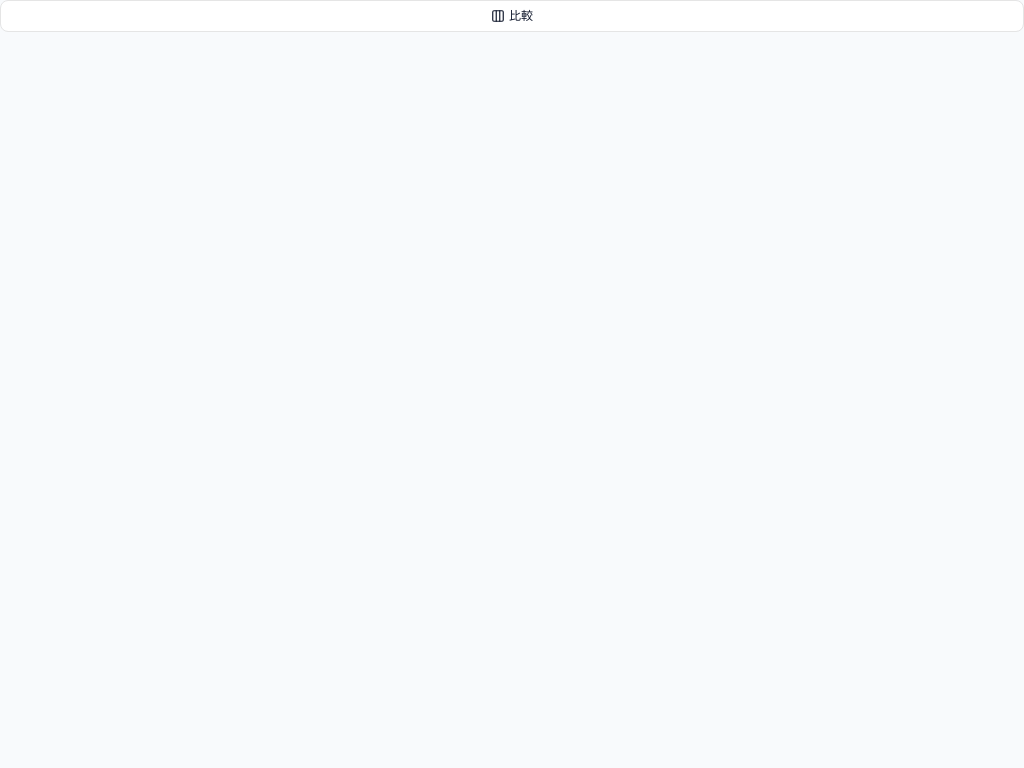
Test: BuildComparisonDialog › 選択が2件未満のときは比較できないと伝える
Step 1. Click the button "比較" → (512, 16), box [0,0,1023,32]
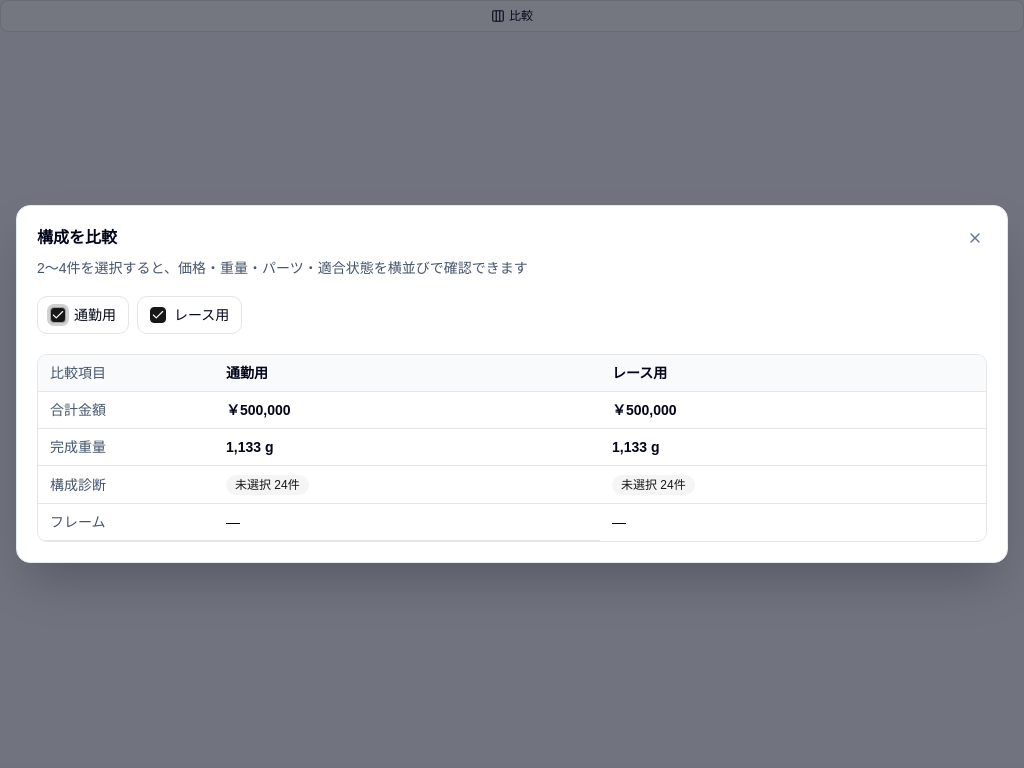
片方を外すとメッセージが出て、選び直すと消える
Step 2. Click the 1st checkbox → (58, 315), box [50,307,66,323]
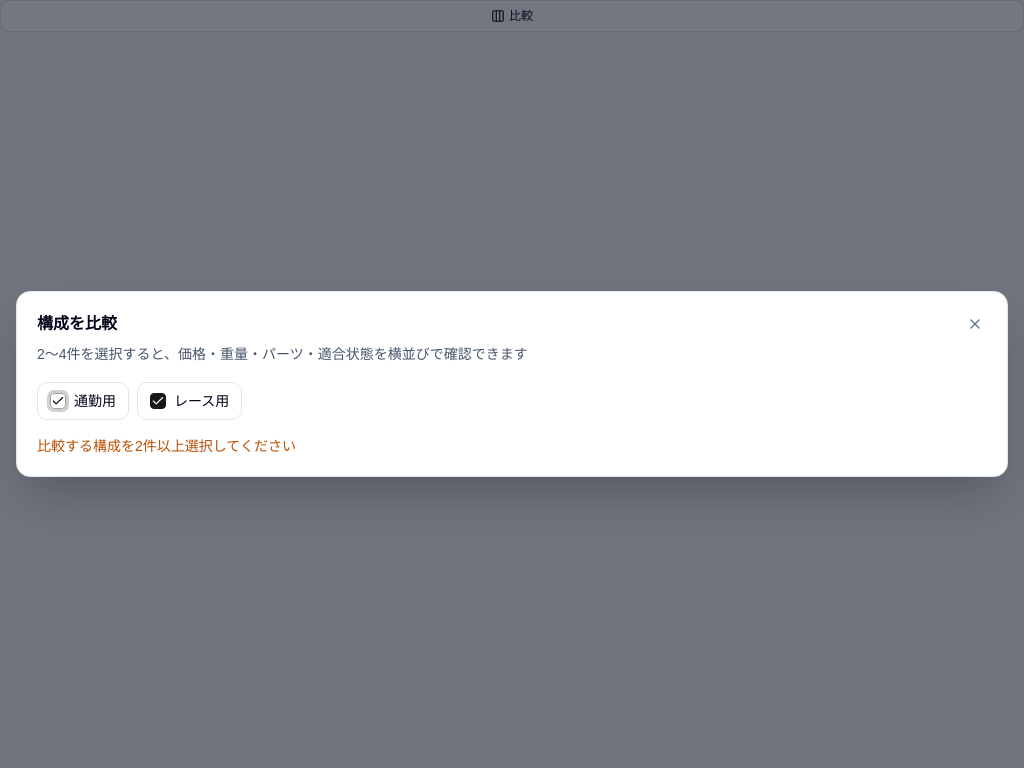
Expected: the text "比較する構成を2件以上選択してください" is shown, [37,438,296,454]
Step 3. Click the checkbox next to "通勤用" → (58, 401), box [50,393,66,409]
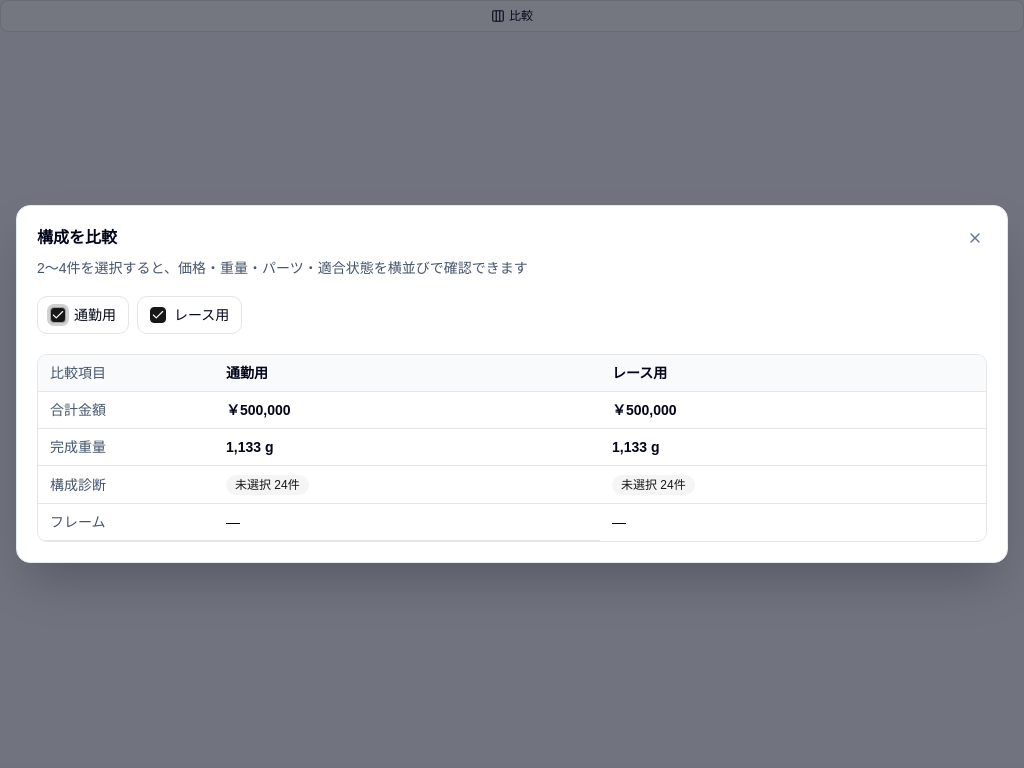
Expected: the text "比較する構成を2件以上選択してください" is gone
